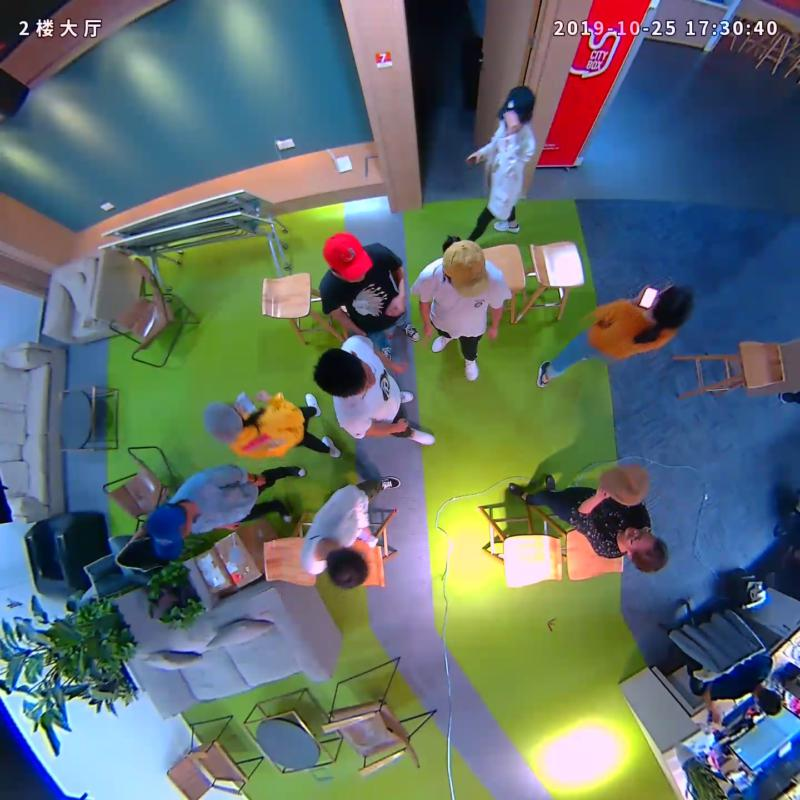head: (313, 348, 378, 398), (145, 501, 195, 562), (442, 239, 492, 299), (322, 232, 373, 281), (621, 525, 670, 574), (652, 282, 693, 330), (325, 546, 368, 590), (495, 85, 536, 130), (204, 402, 245, 443)
